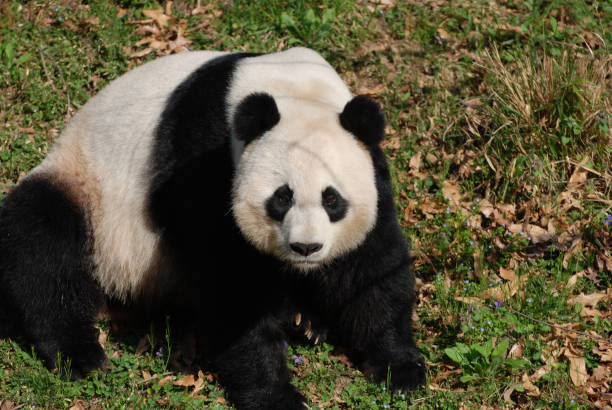panda: (214, 79, 396, 278)
